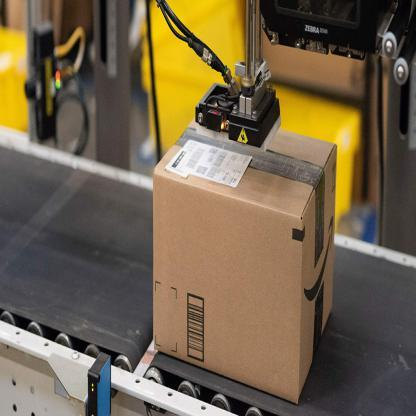package: (150, 105, 339, 408)
